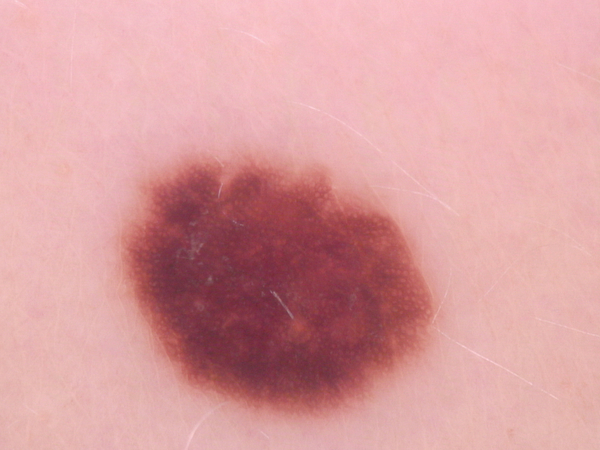Detected Lesion: (116, 145, 439, 419)
